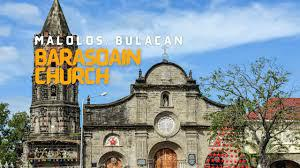barasoain_church_malolos_bulacan: (24, 1, 240, 168)
